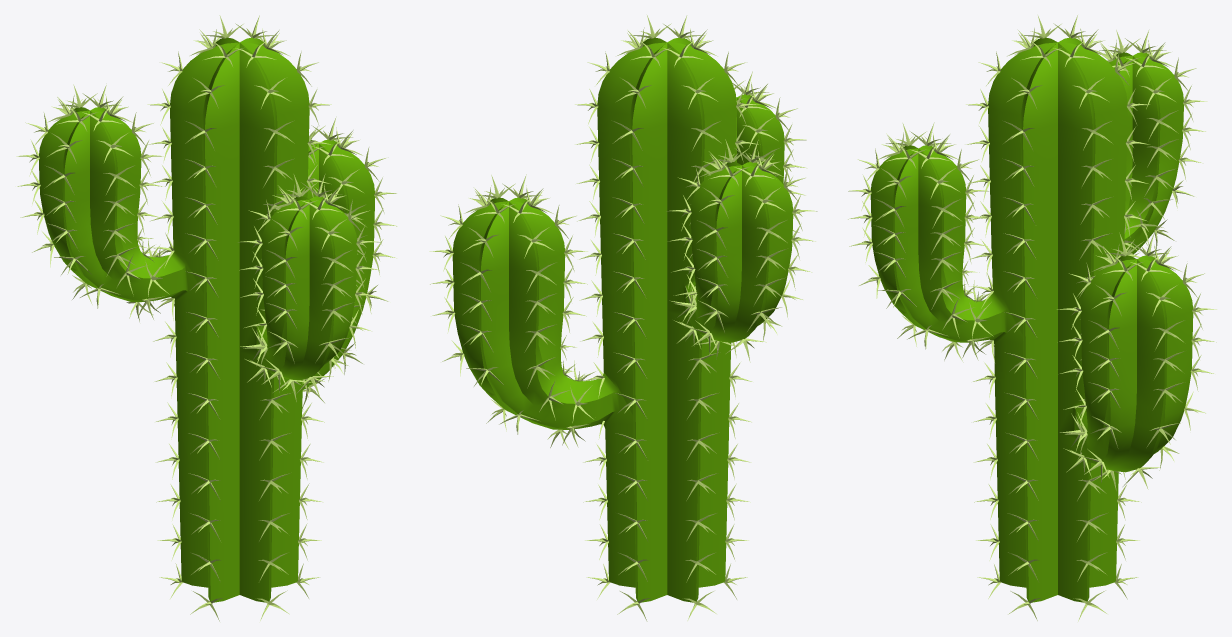
File: TallCactus.fbx
3 views of the same model, side by side, from view 1: azimuth 30°, elevation 25°; view 2: azimuth 150°, elevation 25°; view 3: azimuth 270°, elevation 25° (orthographic).
Parts seen in each view (by area): view 1: TallCactus; view 2: TallCactus; view 3: TallCactus.
Part boxes in pixels (x1=…): TallCactus: x1=16, y1=15, x2=397, y2=621; TallCactus: x1=429, y1=15, x2=817, y2=621; TallCactus: x1=848, y1=15, x2=1216, y2=621.
Bounding box in the file's own units: 101 × 157 × 93.59.
